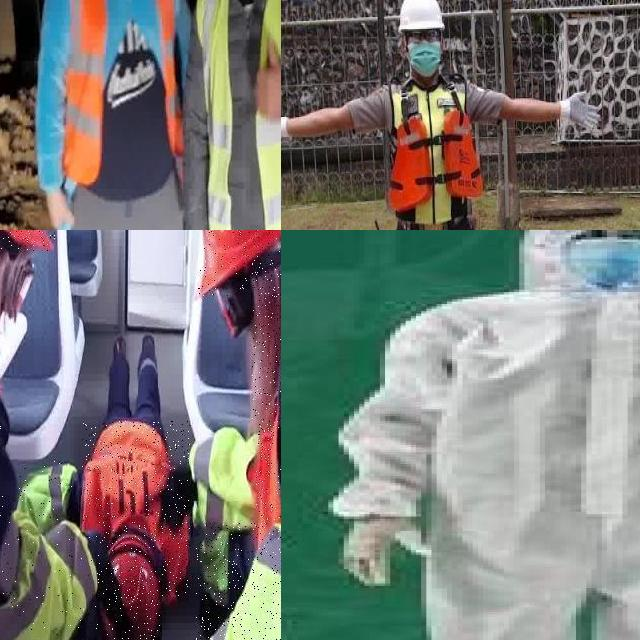GLASS: (406, 30, 443, 44)
GLOVE: (561, 91, 601, 133), (281, 111, 292, 159)
Glove: (333, 514, 442, 584)
HELMET: (106, 530, 160, 640), (198, 230, 281, 296)
MASK: (560, 234, 640, 282)
VEST: (62, 0, 177, 185), (195, 0, 281, 230), (82, 421, 190, 600), (376, 70, 488, 230), (0, 521, 98, 640), (195, 523, 281, 640), (192, 419, 256, 562), (19, 461, 74, 526)
